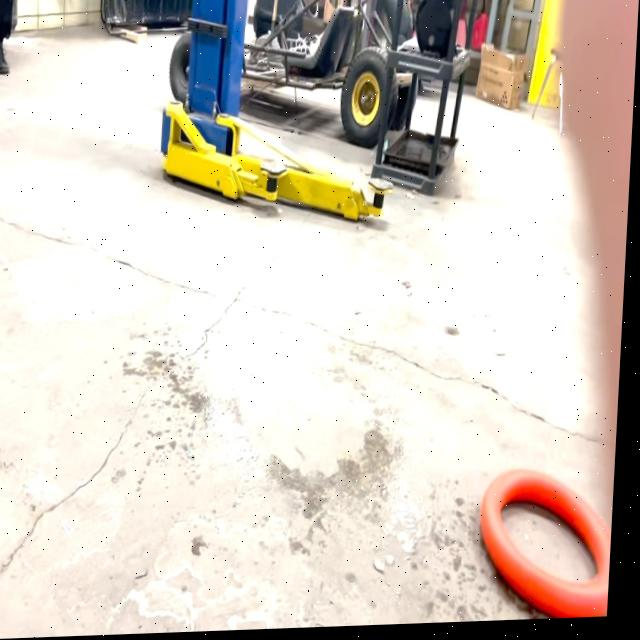note: (484, 458, 615, 581)
